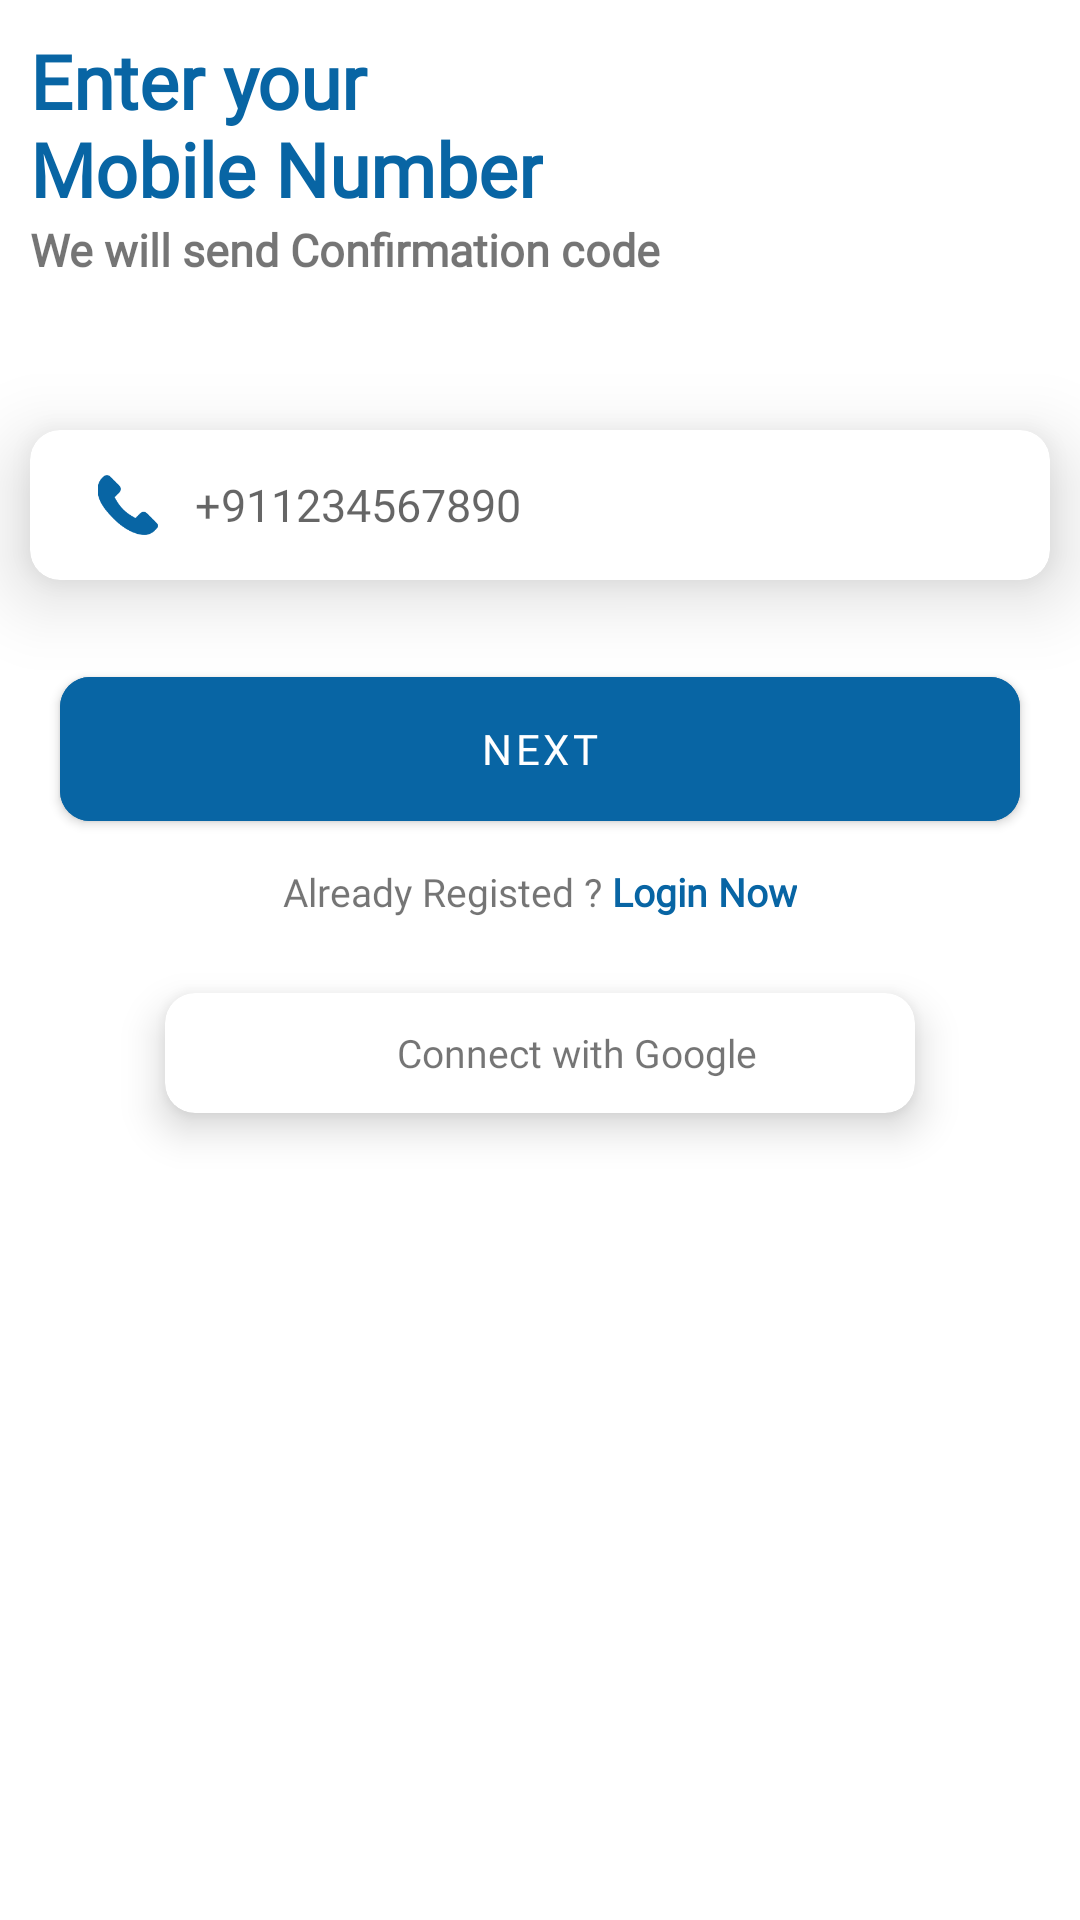

Named icons in this screenshot (1080*1920) and their centers, [x,y]:
call: [128,505]
